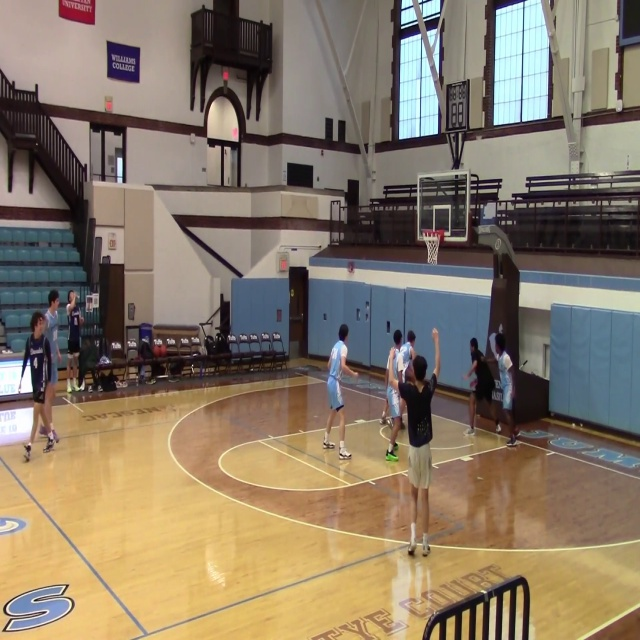Basketball: (153, 345, 167, 357)
